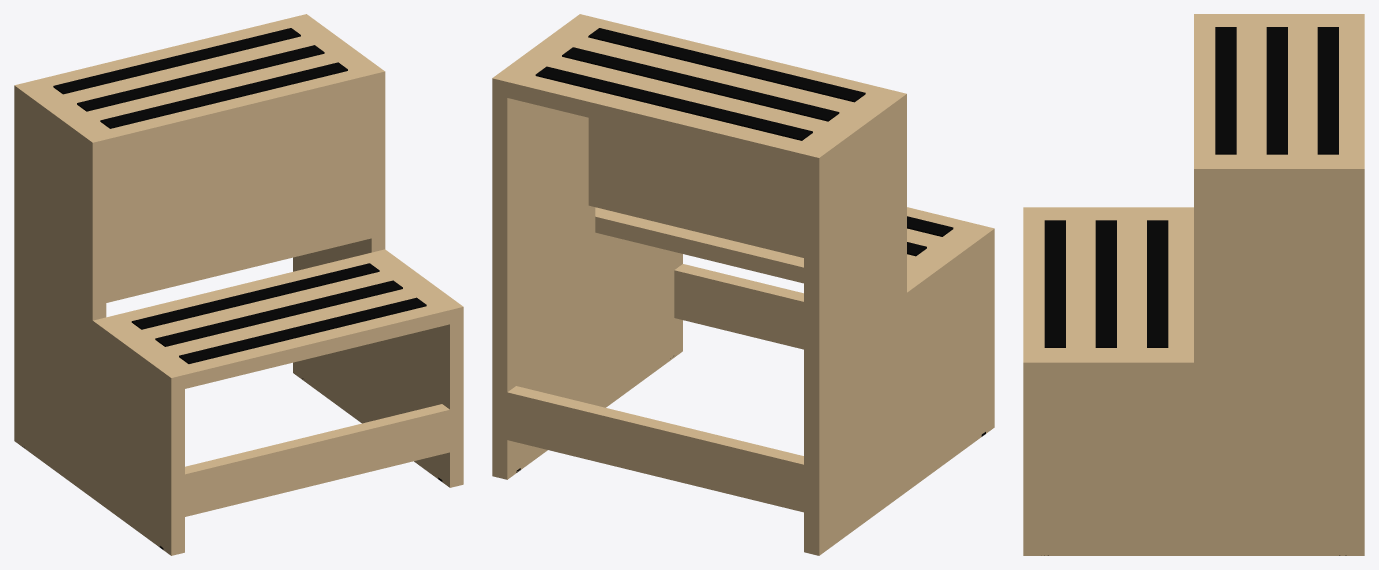
File: 026_two_step_kitchen_step_stool.glb
3 renders of one model, left to right at view 1: azimuth 30°, elevation 25°; view 2: azimuth 150°, elevation 25°; view 3: azimuth 270°, elevation 25°, orthographic. The views are drawn at different scales.
Parts seen in each view (by area): view 1: 000_side_frame_l, 012_riser_panel, 001_side_frame_r, 006_top_step, 002_lower_step, 011_front_rail, 003_lower_step_grip_strip, 005_lower_step_grip_strip, 007_top_step_grip_strip, 008_top_step_grip_strip, 009_top_step_grip_strip, 004_lower_step_grip_strip; view 2: 000_side_frame_l, 001_side_frame_r, 006_top_step, 012_riser_panel, 010_back_rail, 002_lower_step, 011_front_rail, 007_top_step_grip_strip, 009_top_step_grip_strip, 008_top_step_grip_strip; view 3: 001_side_frame_r, 002_lower_step, 006_top_step, 003_lower_step_grip_strip, 004_lower_step_grip_strip, 005_lower_step_grip_strip, 007_top_step_grip_strip, 008_top_step_grip_strip, 009_top_step_grip_strip, 000_side_frame_l.
Part boxes in pixels (x1,y1,x2,y2): 000_side_frame_l: (14,82,184,555); 012_riser_panel: (106,89,371,302); 001_side_frame_r: (293,14,463,487); 006_top_step: (28,17,371,153); 002_lower_step: (107,252,449,388); 011_front_rail: (185,404,449,516); 003_lower_step_grip_strip: (131,263,379,329); 005_lower_step_grip_strip: (179,297,426,363); 007_top_step_grip_strip: (53,28,300,94); 008_top_step_grip_strip: (77,45,324,111); 009_top_step_grip_strip: (100,62,347,128); 004_lower_step_grip_strip: (155,280,402,346); 000_side_frame_l: (804,90,994,555); 001_side_frame_r: (492,14,682,479); 006_top_step: (507,17,891,169); 012_riser_panel: (588,118,803,257); 010_back_rail: (507,386,803,512); 002_lower_step: (595,207,979,283); 011_front_rail: (674,264,803,349); 007_top_step_grip_strip: (535,66,812,140); 009_top_step_grip_strip: (588,28,865,102); 008_top_step_grip_strip: (562,47,839,121); 001_side_frame_r: (1023,162,1364,555); 002_lower_step: (1023,214,1193,355); 006_top_step: (1194,21,1364,161); 003_lower_step_grip_strip: (1147,220,1168,347); 004_lower_step_grip_strip: (1095,220,1116,347); 005_lower_step_grip_strip: (1044,220,1065,347); 007_top_step_grip_strip: (1317,27,1338,154); 008_top_step_grip_strip: (1266,27,1287,154); 009_top_step_grip_strip: (1215,27,1236,154); 000_side_frame_l: (1023,14,1364,214).
Size of the model in its own units: 0.43 by 0.502 by 0.4.
